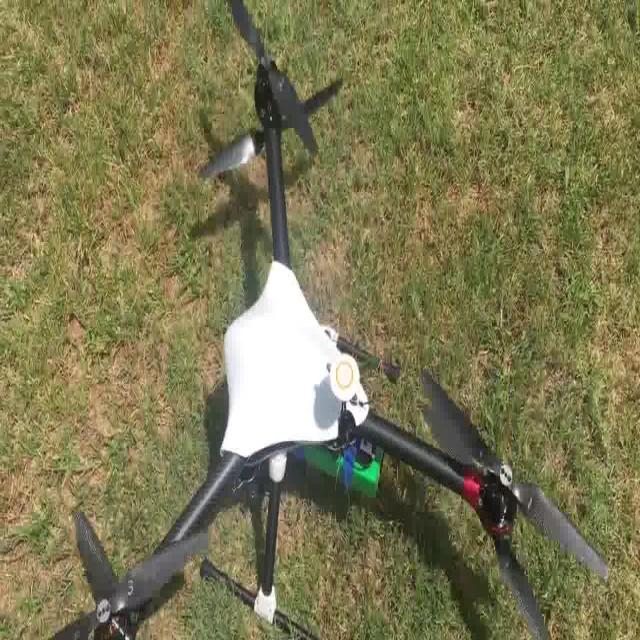drones: (42, 0, 614, 640)
